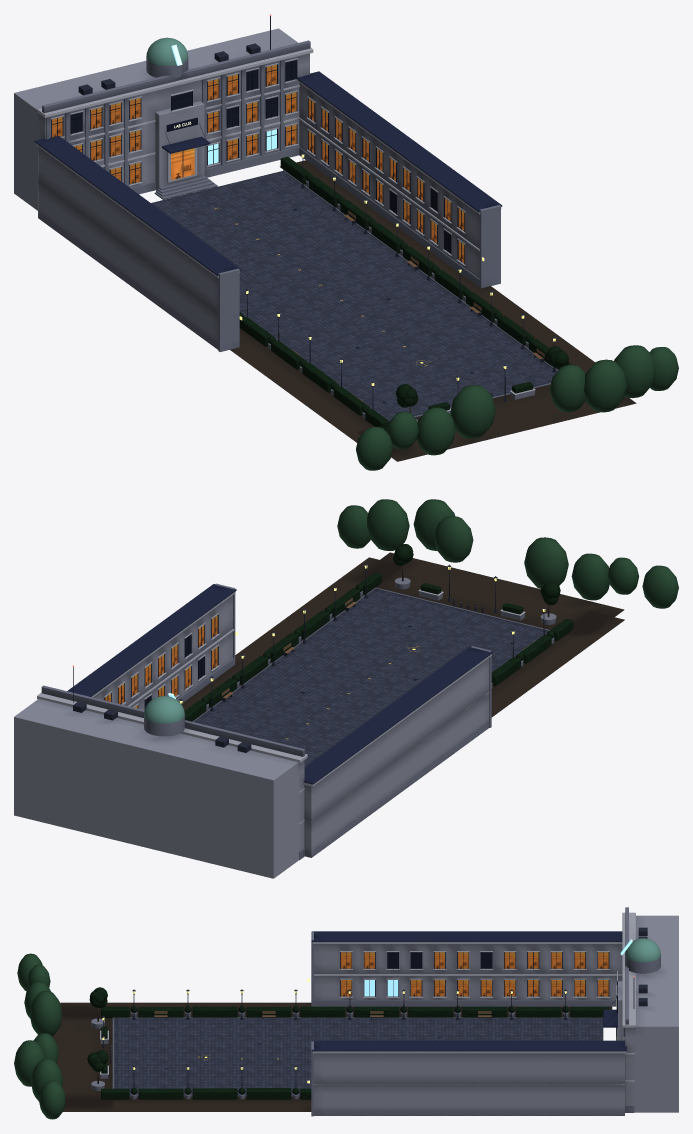
Rendered from night-plaza.glb.
3 renders of one model, top to bottom at view 1: azimuth 30°, elevation 25°; view 2: azimuth 150°, elevation 25°; view 3: azimuth 270°, elevation 25°, orthographic. The views are drawn at different scales.
Parts seen in each view (by area): view 1: set_tiles, set_facade, set_facade_dk, set_soil, set_hedge_dk, set_roof, set_hedge, set_trim, set_win_warm_noshadow, set_navy_dk, set_iron, set_win_dark (+2 smaller); view 2: set_facade, set_tiles, set_soil, set_hedge_dk, set_roof, set_facade_dk, set_hedge, set_trim, set_iron, set_win_warm_noshadow, set_navy_dk, set_copper (+3 smaller); view 3: set_facade, set_tiles, set_soil, set_hedge, set_roof, set_facade_dk, set_hedge_dk, set_trim, set_win_warm_noshadow, set_navy_dk, set_iron, set_stone_dk (+6 smaller).
Part boxes in pixels (x1,y1,x2,y2): set_tiles: (151,171,556,421); set_facade: (14,28,479,342); set_facade_dk: (38,40,500,351); set_soil: (230,160,636,461); set_hedge_dk: (356,345,678,470); set_roof: (34,71,502,275); set_hedge: (239,156,571,430); set_trim: (35,48,535,411); set_win_warm_noshadow: (52,64,464,262); set_navy_dk: (51,60,473,403); set_iron: (78,16,556,408); set_win_dark: (71,60,450,253); set_facade: (14,595,489,878); set_tiles: (194,589,548,766); set_soil: (182,552,624,717); set_hedge_dk: (337,499,678,608); set_roof: (67,584,492,784); set_facade_dk: (41,583,491,860); set_hedge: (184,572,573,721); set_trim: (37,589,525,825); set_iron: (73,563,545,752); set_win_warm_noshadow: (105,615,217,708); set_navy_dk: (104,614,512,738); set_copper: (144,696,184,723); set_facade: (314,915,678,1115); set_tiles: (114,1018,603,1095); set_soil: (52,1002,612,1111); set_hedge: (101,1006,609,1099); set_roof: (312,931,626,1051); set_facade_dk: (311,907,660,1116); set_hedge_dk: (14,953,65,1119); set_trim: (100,912,635,1084); set_win_warm_noshadow: (341,952,608,996); set_navy_dk: (151,952,624,1069); set_iron: (101,927,647,1087); set_stone_dk: (112,1017,603,1096).
Size of the model in its own units: 36.66 by 14.99 by 73.96.
25 materials, 5 textured.
